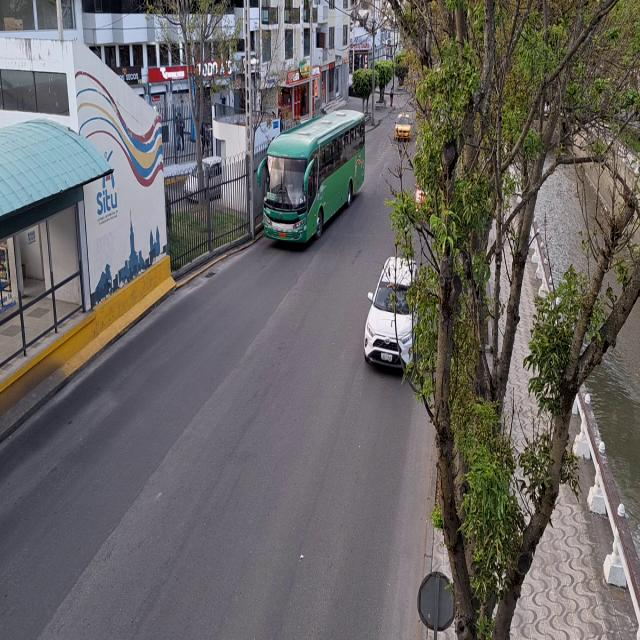BUS: (266, 116, 368, 253)
